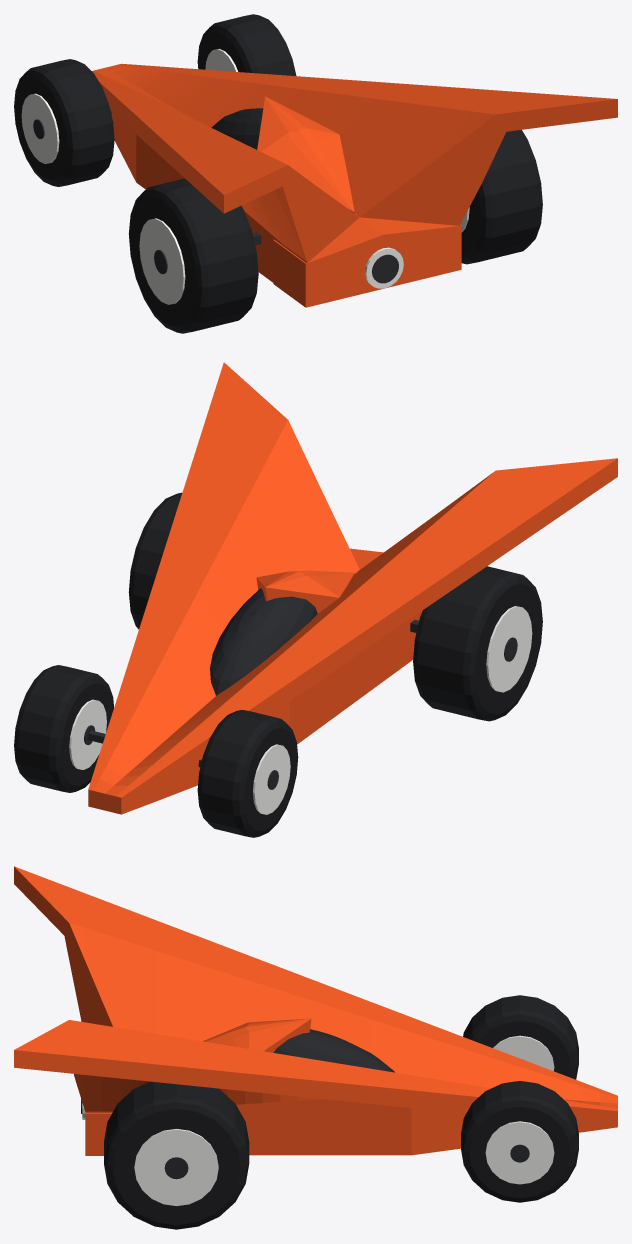
The model's file is delta.glb.
3 renders of one model, top to bottom at view 1: azimuth 30°, elevation 25°; view 2: azimuth 150°, elevation 25°; view 3: azimuth 270°, elevation 25°, orthographic. The views are drawn at different scales.
Parts seen in each view (by area): view 1: body, wheel_RL, wheel_FL, wheel_RR, wheel_FR; view 2: body, wheel_RL, wheel_FL, wheel_FR, wheel_RR; view 3: body, wheel_RR, wheel_FR, wheel_FL.
Boxes of the visible parts, left/top/right/bottom form: body: left=92, top=63, right=617, bottom=307; wheel_RL: left=128, top=178, right=258, bottom=333; wheel_FL: left=14, top=59, right=114, bottom=186; wheel_RR: left=460, top=130, right=542, bottom=264; wheel_FR: left=197, top=14, right=296, bottom=76; body: left=88, top=362, right=617, bottom=814; wheel_RL: left=413, top=566, right=542, bottom=721; wheel_FL: left=197, top=710, right=298, bottom=837; wheel_FR: left=14, top=665, right=113, bottom=792; wheel_RR: left=128, top=492, right=182, bottom=629; body: left=14, top=866, right=617, bottom=1155; wheel_RR: left=104, top=1081, right=249, bottom=1229; wheel_FR: left=461, top=1081, right=578, bottom=1202; wheel_FL: left=463, top=995, right=578, bottom=1079.
Bounding box in the file's own units: 2.59 × 1.28 × 3.6.
